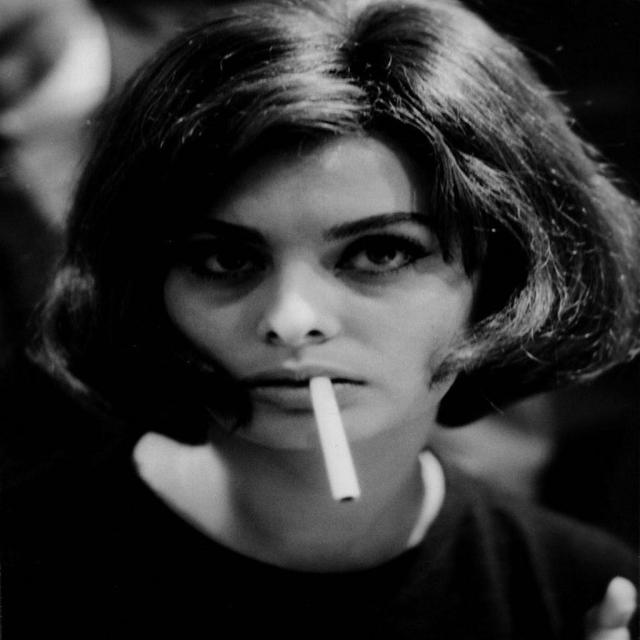smoking: (308, 375, 363, 503)
